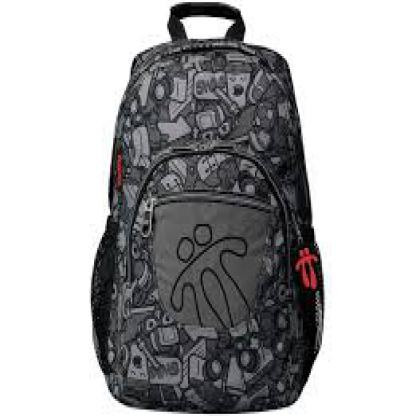morral: (81, 2, 335, 412)
